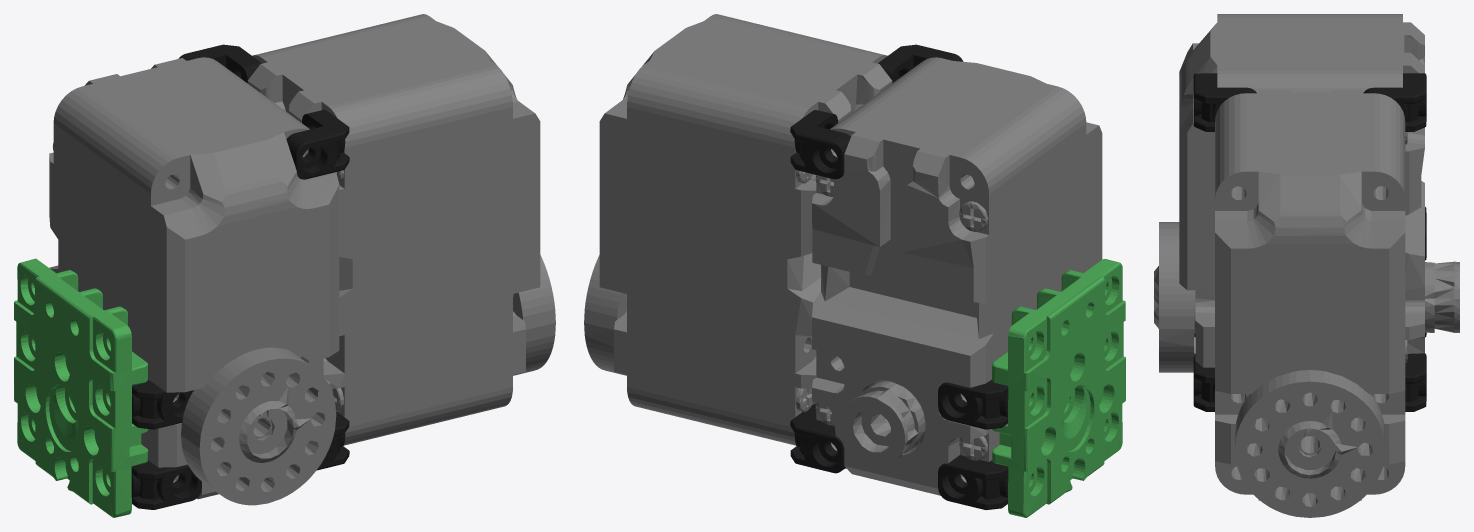
Rendered from bone34.DAE.
3 views of the same model, side by side, from view 1: azimuth 30°, elevation 25°; view 2: azimuth 150°, elevation 25°; view 3: azimuth 270°, elevation 25° (orthographic). The views are drawn at different scales.
Parts seen in each view (by area): view 1: through_all_screw_holes (×2), Imported1 (×6), screw_holes (×2); view 2: through_all_screw_holes (×2), Imported1 (×6), O3.0__3__Diameter_Hole1, screw_holes; view 3: through_all_screw_holes (×2), screw_holes (×2), Imported1 (×4), O3.0__3__Diameter_Hole1.
Boxes of the visible parts, bbox=[...] form: through_all_screw_holes (×2): bbox=[49, 14, 540, 499]; Imported1 (×6): bbox=[14, 44, 349, 517]; screw_holes (×2): bbox=[181, 255, 555, 505]; through_all_screw_holes (×2): bbox=[599, 14, 1102, 495]; Imported1 (×6): bbox=[790, 44, 1125, 517]; O3.0__3__Diameter_Hole1: bbox=[840, 381, 925, 465]; screw_holes: bbox=[584, 255, 626, 375]; through_all_screw_holes (×2): bbox=[1179, 14, 1424, 500]; screw_holes (×2): bbox=[1154, 222, 1385, 517]; Imported1 (×4): bbox=[1193, 73, 1426, 411]; O3.0__3__Diameter_Hole1: bbox=[1425, 261, 1459, 332].
Bounding box in the file's own units: 63.7 × 38.6 × 46.05.
